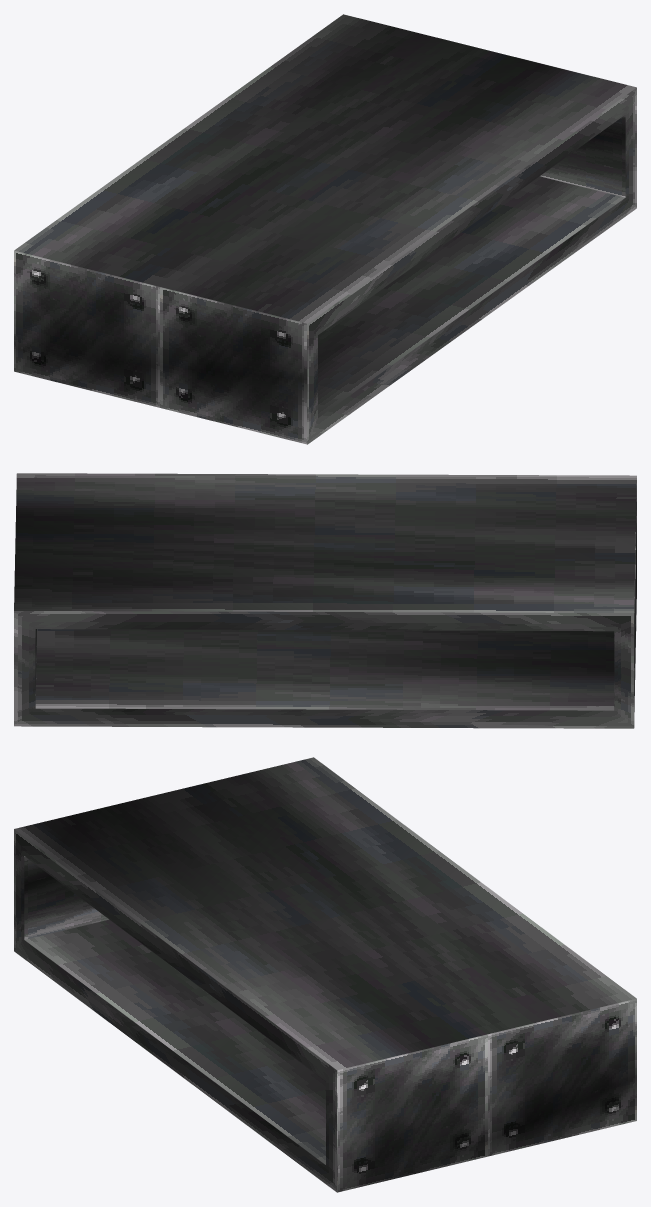
The model's file is SWORDLIGHT20_BRIDGEHOUSING01.fbx.
3 views of the same model, one above another, from view 1: azimuth 30°, elevation 25°; view 2: azimuth 150°, elevation 25°; view 3: azimuth 270°, elevation 25° (orthographic). The views are drawn at different scales.
Visible parts, largest first — view 1: SWORDLIGHT20_BRIDGEHOUSING01; view 2: SWORDLIGHT20_BRIDGEHOUSING01; view 3: SWORDLIGHT20_BRIDGEHOUSING01.
Part boxes in pixels (bbox=[...]): SWORDLIGHT20_BRIDGEHOUSING01: bbox=[14, 14, 636, 444]; SWORDLIGHT20_BRIDGEHOUSING01: bbox=[14, 473, 636, 728]; SWORDLIGHT20_BRIDGEHOUSING01: bbox=[14, 757, 636, 1192].
Size of the model in its own units: 19105 by 3480 by 16068.
1 material, 1 textured.
